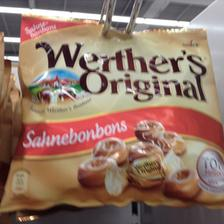Suessigkeit: (16, 11, 220, 207)
